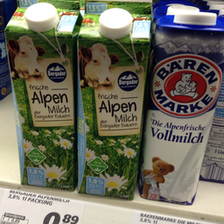milk: (143, 12, 224, 206), (75, 1, 144, 200), (7, 7, 80, 195)
